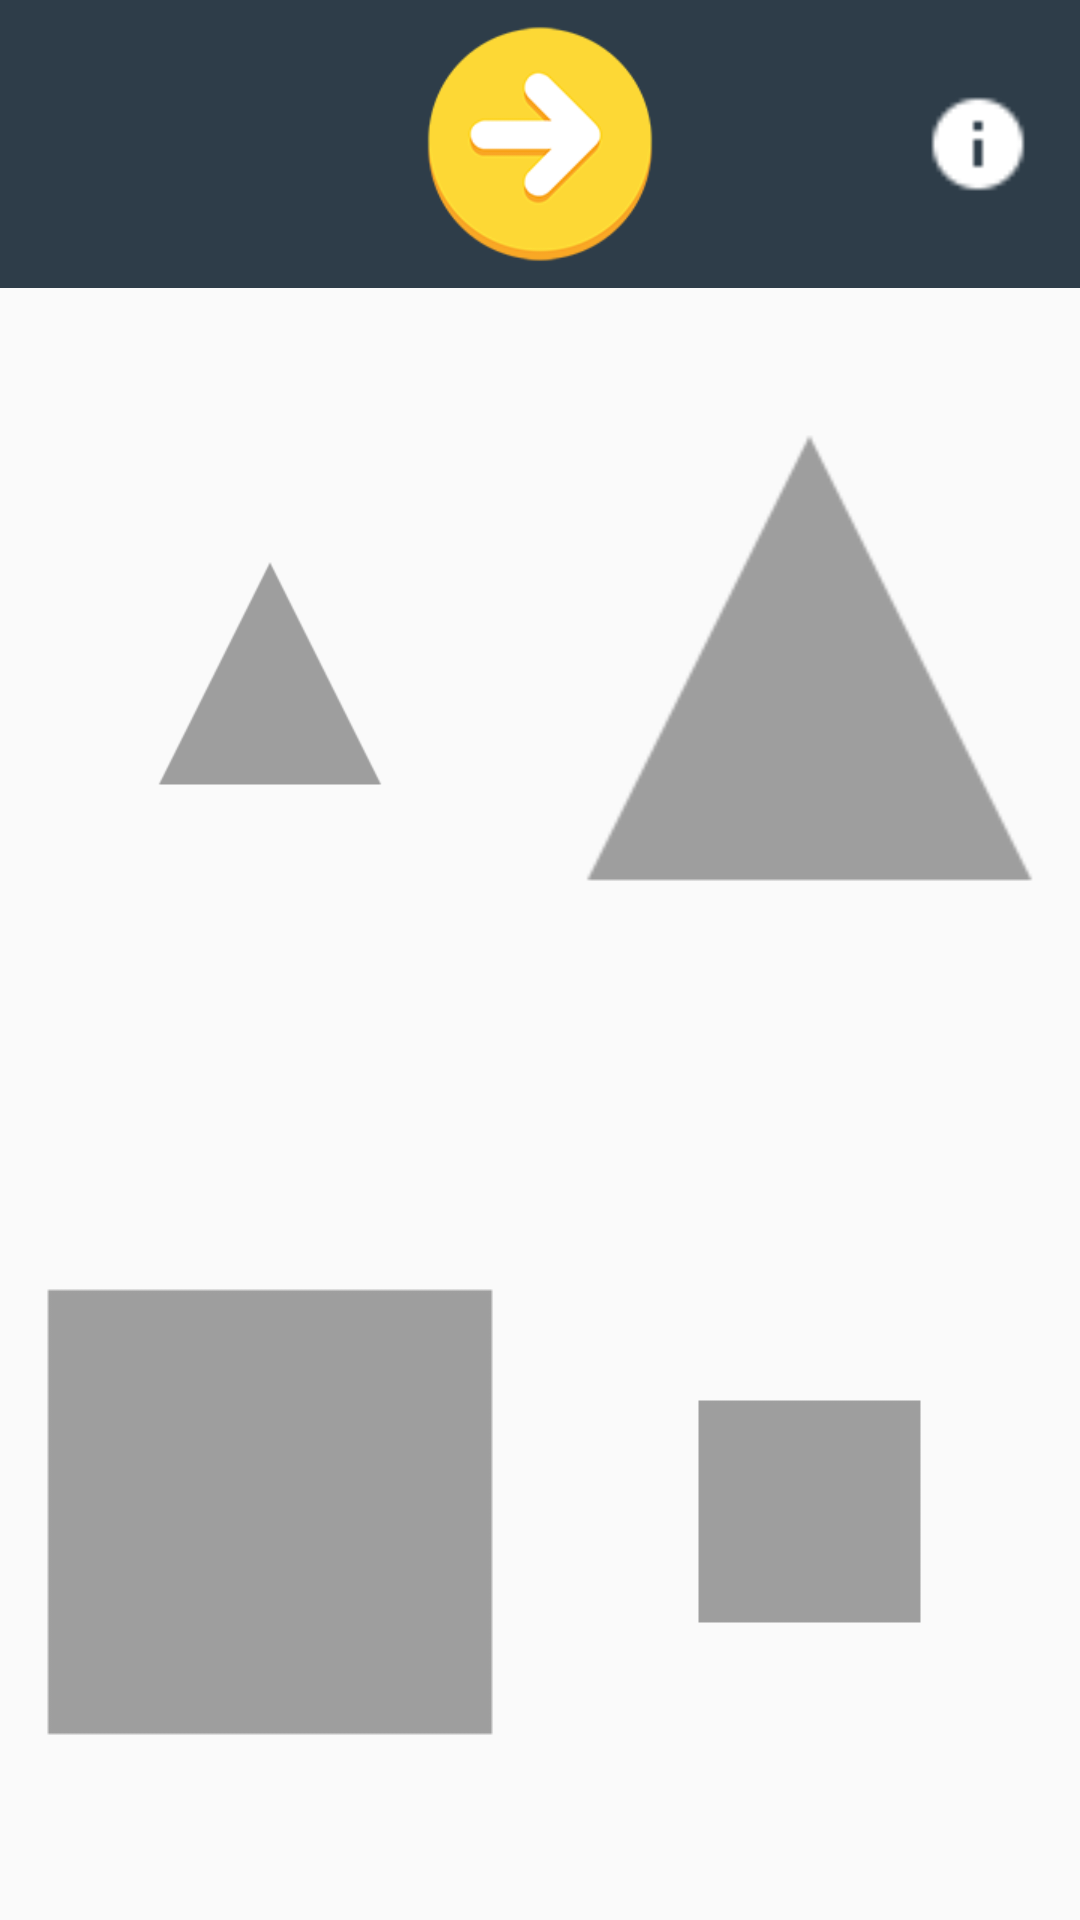

Icon bounding boxes for this 1080px x 1920px phone screenshot, format Rect(x1, y1, x2, y2):
info: Rect(931, 97, 1025, 191)
next: Rect(427, 27, 653, 261)
